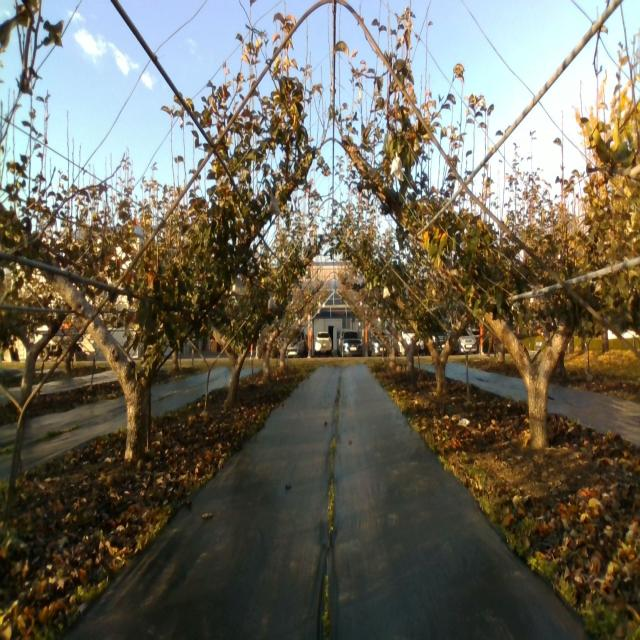pearbags: (390, 152, 405, 181), (232, 278, 245, 296)
